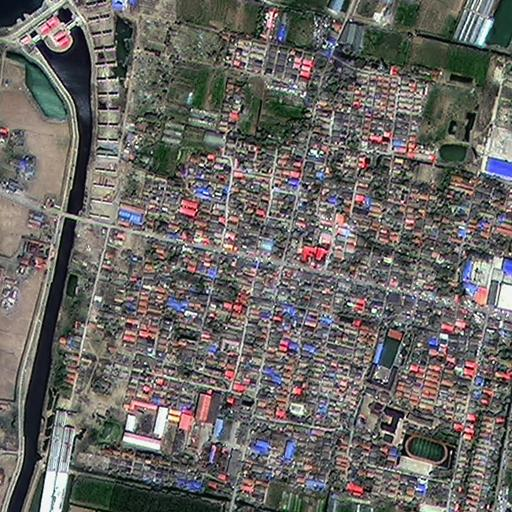school: (376, 404, 452, 474), (365, 325, 407, 392)
